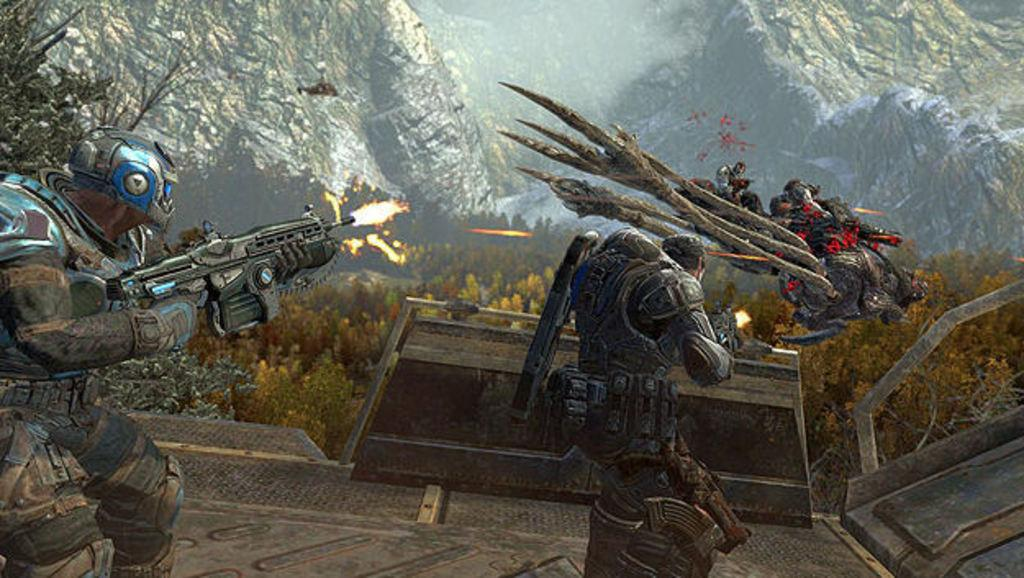Rifle: (105, 205, 357, 337), (705, 300, 747, 362)
